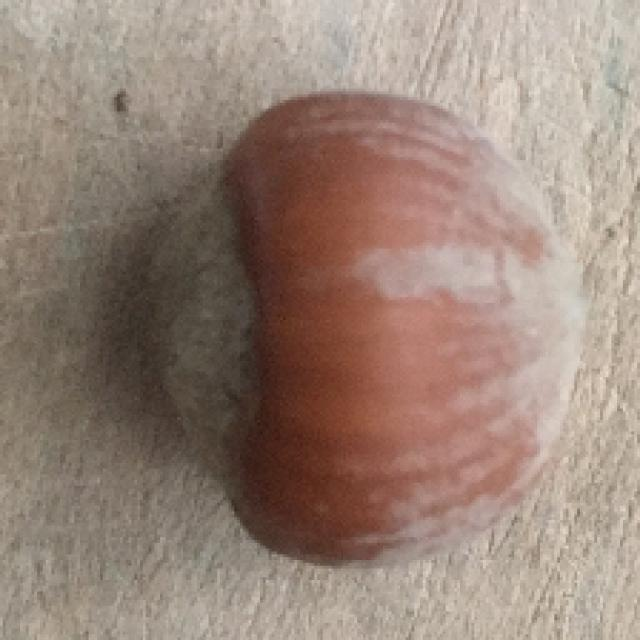qualityHazelnut: (149, 88, 587, 567)
